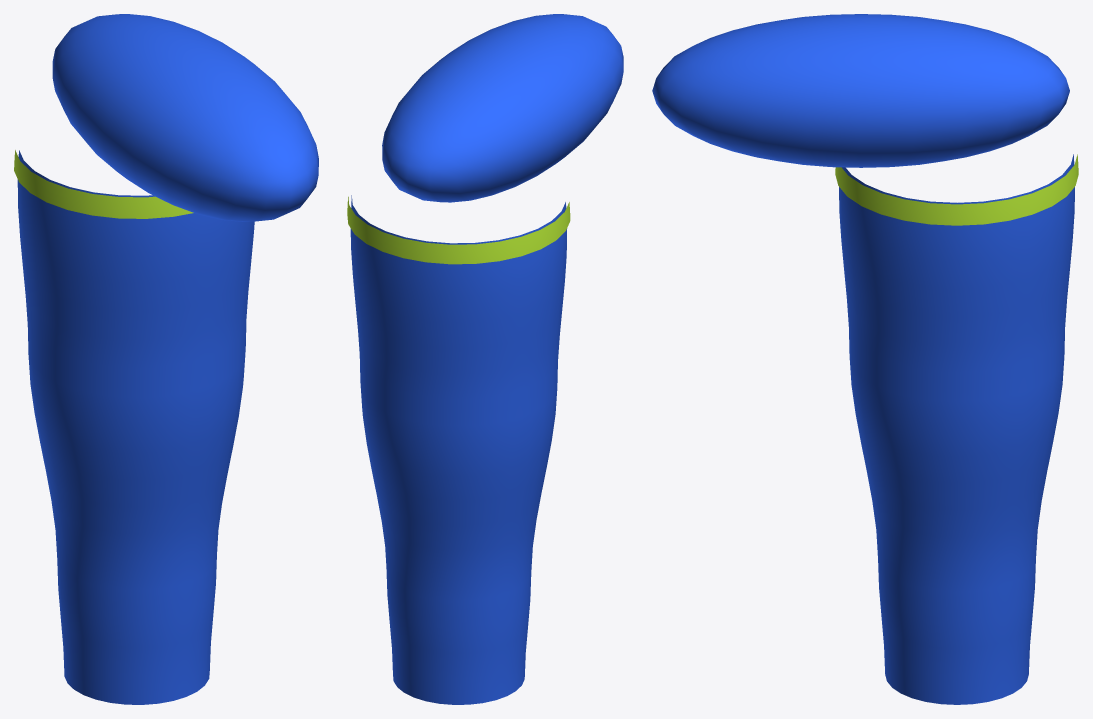
Rendered from socks_compression_female.glb.
The picture shows the model from 3 angles, left to right: view 1: azimuth 30°, elevation 25°; view 2: azimuth 150°, elevation 25°; view 3: azimuth 270°, elevation 25°; orthographic projection. The views are drawn at different scales.
Visible parts, largest first — view 1: sock, sock_foot, sock_band; view 2: sock, sock_foot, sock_band; view 3: sock, sock_foot, sock_band.
Part boxes in pixels (x1,y1,x2,y2): sock: (17,150,254,704); sock_foot: (52,14,318,221); sock_band: (14,150,193,218); sock: (350,195,567,704); sock_foot: (382,14,623,202); sock_band: (347,196,570,264); sock: (839,154,1074,704); sock_foot: (652,14,1069,167); sock_band: (835,154,1078,225).
Size of the model in its own units: 0.127 by 0.374 by 0.2225.
